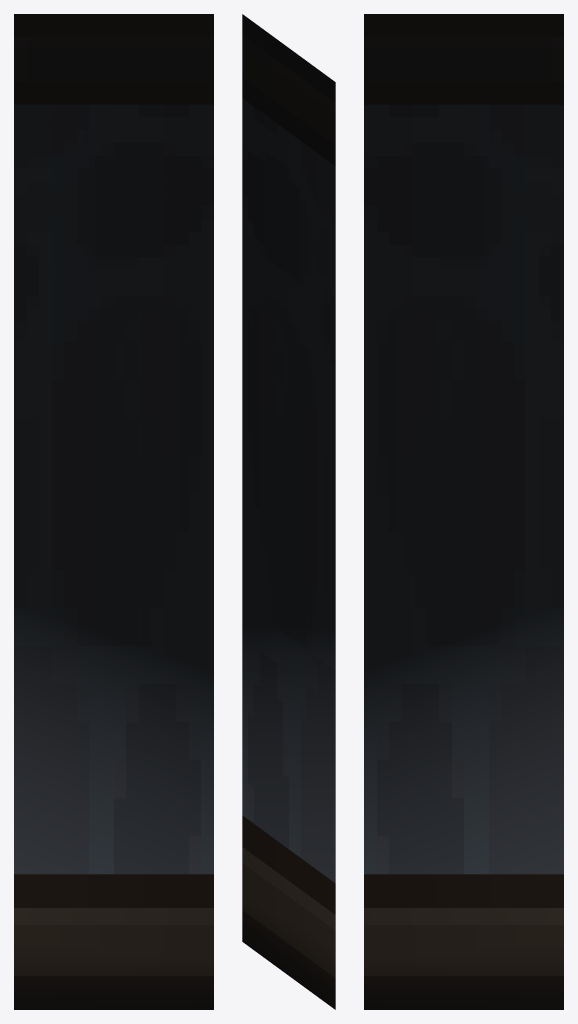
3 renders of one model, left to right at view 1: azimuth 90°, elevation 25°; view 2: azimuth 210°, elevation 25°; view 3: azimuth 270°, elevation 25°, orthographic. The views are drawn at different scales.
Size of the model in its own units: 0 by 5.5 by 1.
Materials: 2 (2 with a texture image).
